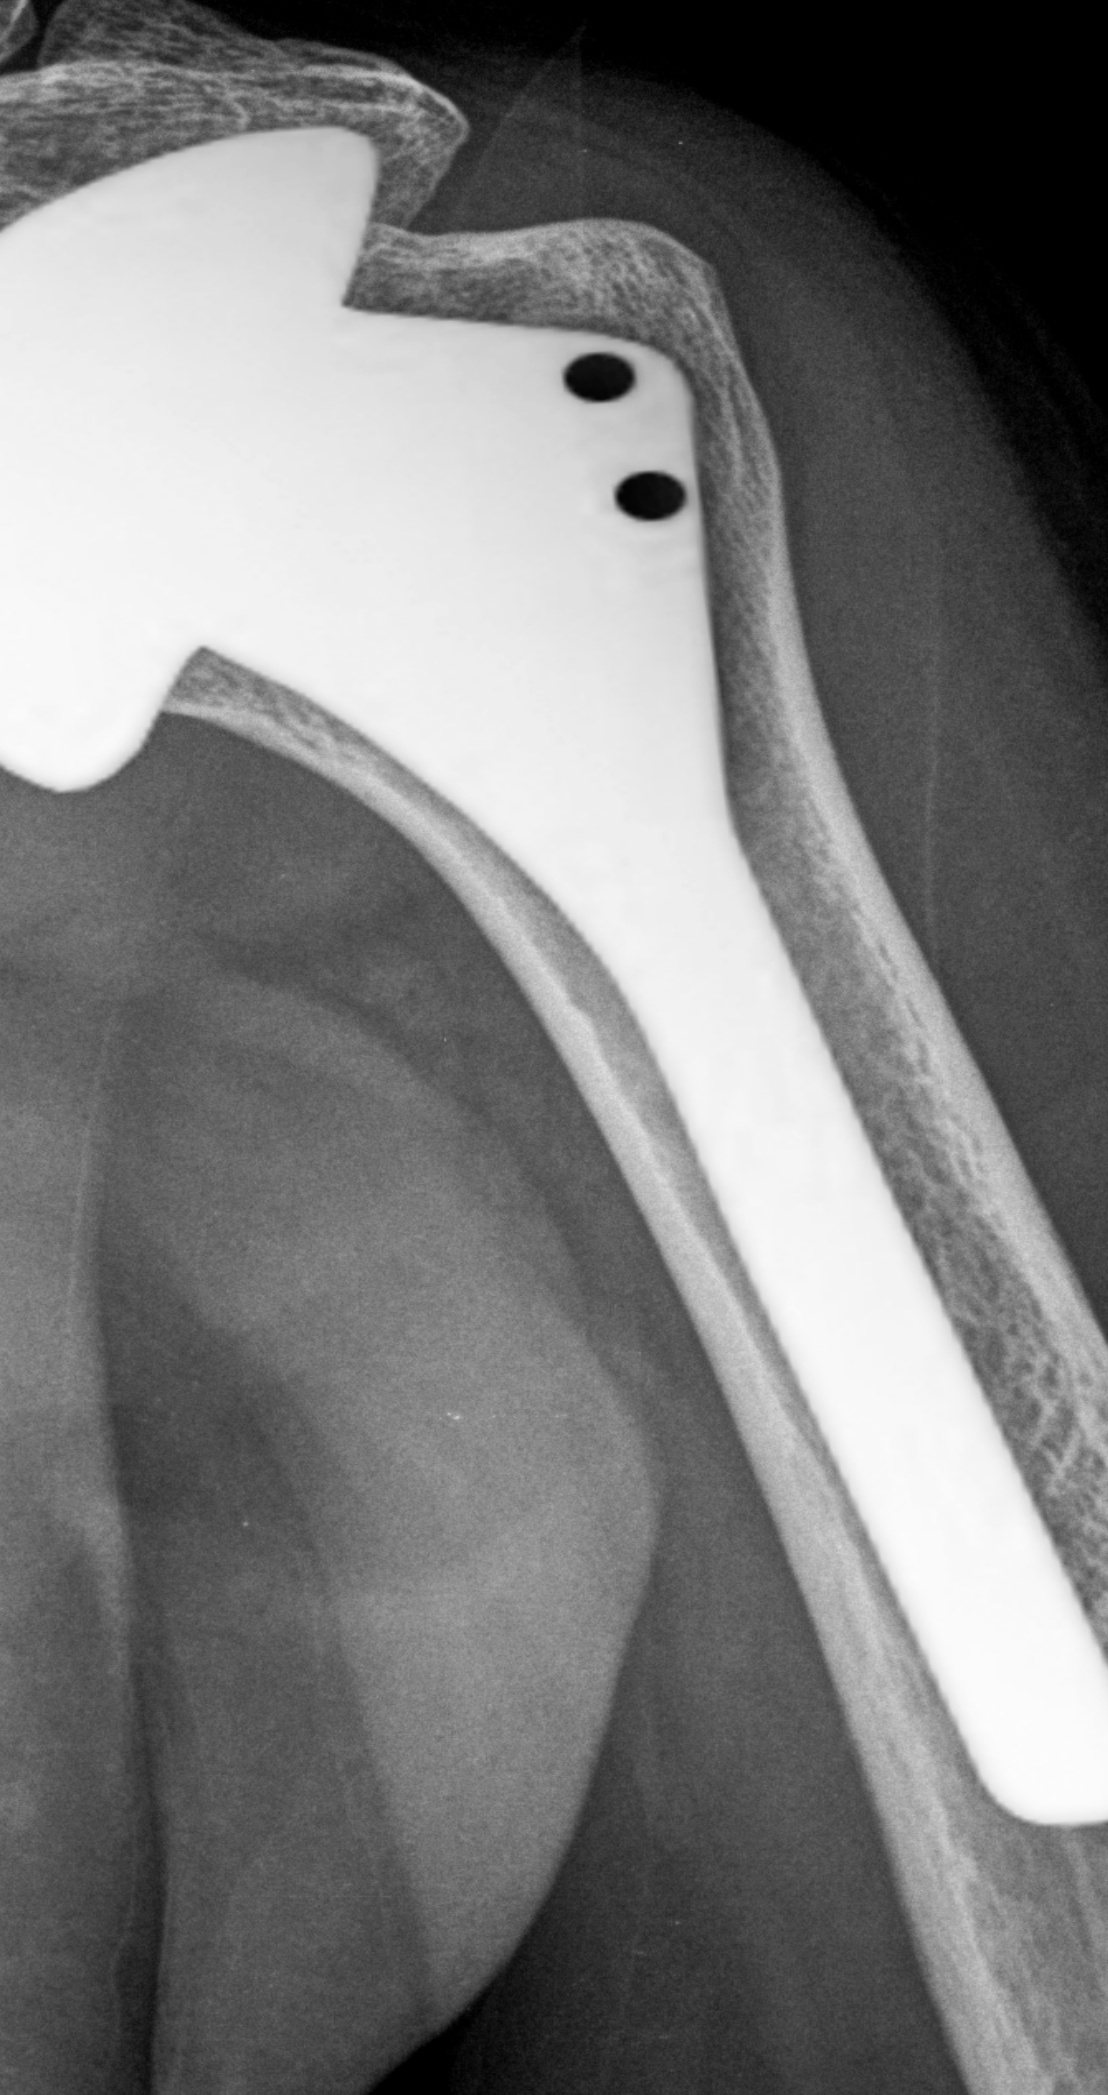Shoulder - Aequalishead - Tornier: (1, 89, 399, 808)
Shoulder - Aequalistail - Tornier: (73, 101, 781, 890)
